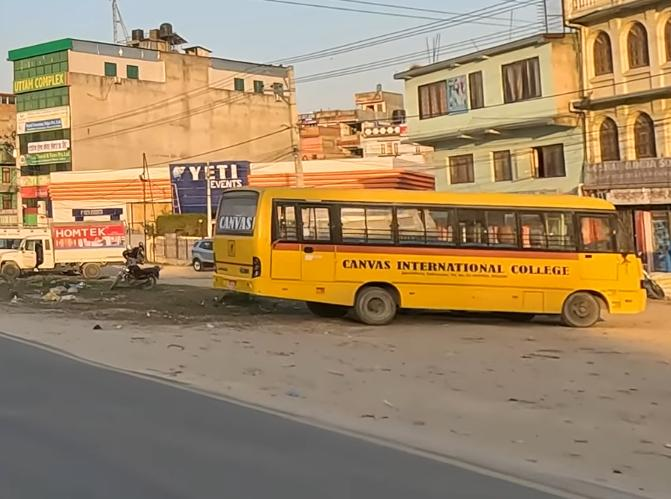school_bus: (211, 181, 649, 331)
transport_vehicle: (0, 219, 124, 282)
